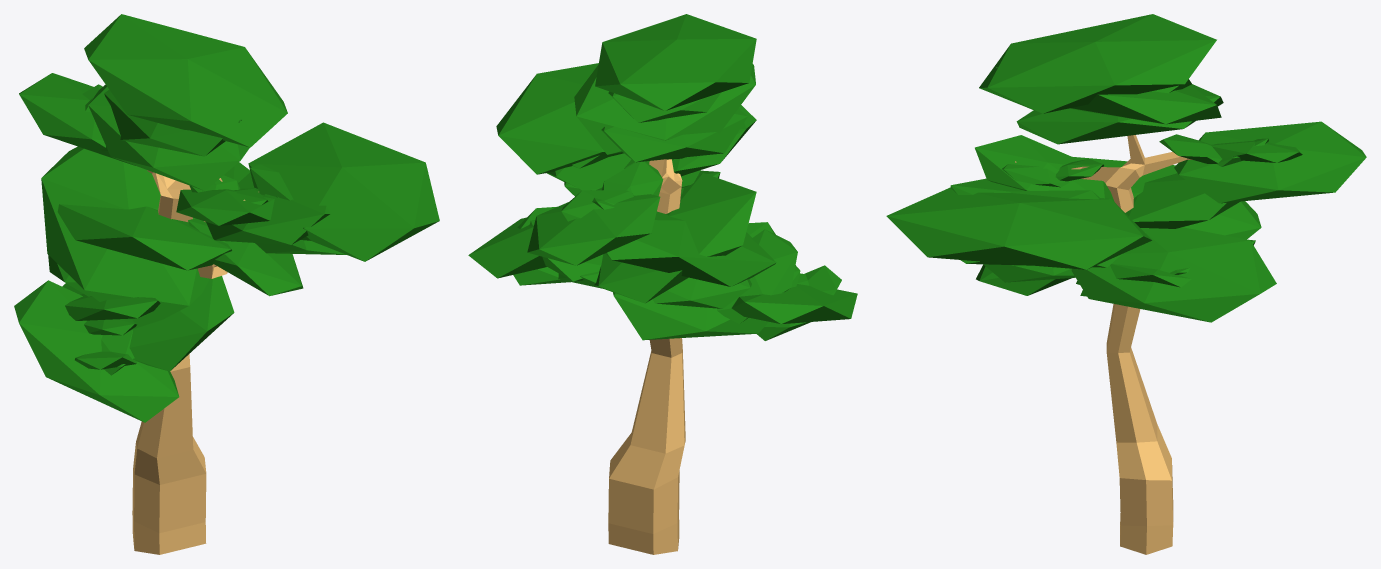
Rendered from Birch tree alt.fbx.
3 views of the same model, side by side, from view 1: azimuth 30°, elevation 25°; view 2: azimuth 150°, elevation 25°; view 3: azimuth 270°, elevation 25° (orthographic). The views are drawn at different scales.
Visible parts, largest first — view 1: Birch Tree 2|Leaf|Dupli|5, Birch Tree 2|Leaf|Dupli|44, Birch Tree 2|Leaf|Dupli|23, Birch Tree 2, Birch Tree 2|Leaf|Dupli|35, Birch Tree 2|Leaf|Dupli|10, Birch Tree 2|Leaf|Dupli|31, Birch Tree 2|Leaf|Dupli|4, Birch Tree 2|Leaf|Dupli|9, Birch Tree 2|Leaf|Dupli|21, Birch Tree 2|Leaf|Dupli|43, Birch Tree 2|Leaf|Dupli|2 (+7 smaller); view 2: Birch Tree 2, Birch Tree 2|Leaf|Dupli|5, Birch Tree 2|Leaf|Dupli|44, Birch Tree 2|Leaf|Dupli|10, Birch Tree 2|Leaf|Dupli|9, Birch Tree 2|Leaf|Dupli|23, Birch Tree 2|Leaf|Dupli|2, Birch Tree 2|Leaf|Dupli|31, Birch Tree 2|Leaf|Dupli|35, Birch Tree 2|Leaf|Dupli|4, Birch Tree 2|Leaf|Dupli|17, Birch Tree 2|Leaf|Dupli|30 (+9 smaller); view 3: Birch Tree 2|Leaf|Dupli|44, Birch Tree 2|Leaf|Dupli|5, Birch Tree 2, Birch Tree 2|Leaf|Dupli|17, Birch Tree 2|Leaf|Dupli|9, Birch Tree 2|Leaf|Dupli|4, Birch Tree 2|Leaf|Dupli|23, Birch Tree 2|Leaf|Dupli|29, Birch Tree 2|Leaf|Dupli|2, Birch Tree 2|Leaf|Dupli|10, Birch Tree 2|Leaf|Dupli|8, Birch Tree 2|Leaf|Dupli|21 (+6 smaller).
Part boxes in pixels (x1,y1,x2,y2): Birch Tree 2|Leaf|Dupli|5: [84, 14, 287, 147]; Birch Tree 2|Leaf|Dupli|44: [248, 122, 439, 261]; Birch Tree 2|Leaf|Dupli|23: [41, 146, 209, 328]; Birch Tree 2: [132, 170, 258, 554]; Birch Tree 2|Leaf|Dupli|35: [14, 280, 179, 422]; Birch Tree 2|Leaf|Dupli|10: [57, 204, 231, 270]; Birch Tree 2|Leaf|Dupli|31: [62, 276, 234, 371]; Birch Tree 2|Leaf|Dupli|4: [88, 84, 249, 190]; Birch Tree 2|Leaf|Dupli|9: [19, 73, 136, 166]; Birch Tree 2|Leaf|Dupli|21: [188, 218, 303, 296]; Birch Tree 2|Leaf|Dupli|43: [206, 192, 330, 244]; Birch Tree 2|Leaf|Dupli|2: [104, 89, 241, 156]; Birch Tree 2: [608, 159, 685, 554]; Birch Tree 2|Leaf|Dupli|5: [595, 14, 756, 110]; Birch Tree 2|Leaf|Dupli|44: [496, 63, 623, 174]; Birch Tree 2|Leaf|Dupli|10: [594, 173, 756, 303]; Birch Tree 2|Leaf|Dupli|9: [527, 187, 660, 265]; Birch Tree 2|Leaf|Dupli|23: [605, 211, 776, 286]; Birch Tree 2|Leaf|Dupli|2: [574, 64, 755, 154]; Birch Tree 2|Leaf|Dupli|31: [613, 222, 795, 340]; Birch Tree 2|Leaf|Dupli|35: [731, 284, 857, 324]; Birch Tree 2|Leaf|Dupli|4: [601, 108, 747, 162]; Birch Tree 2|Leaf|Dupli|17: [468, 217, 546, 278]; Birch Tree 2|Leaf|Dupli|30: [717, 229, 797, 323]; Birch Tree 2|Leaf|Dupli|44: [886, 187, 1152, 269]; Birch Tree 2|Leaf|Dupli|5: [979, 14, 1216, 113]; Birch Tree 2: [1015, 135, 1192, 554]; Birch Tree 2|Leaf|Dupli|17: [1071, 227, 1276, 322]; Birch Tree 2|Leaf|Dupli|9: [1174, 121, 1366, 203]; Birch Tree 2|Leaf|Dupli|4: [1016, 84, 1223, 144]; Birch Tree 2|Leaf|Dupli|23: [1125, 173, 1240, 228]; Birch Tree 2|Leaf|Dupli|29: [975, 135, 1114, 201]; Birch Tree 2|Leaf|Dupli|2: [996, 67, 1221, 124]; Birch Tree 2|Leaf|Dupli|10: [1072, 156, 1261, 239]; Birch Tree 2|Leaf|Dupli|8: [1211, 141, 1302, 162]; Birch Tree 2|Leaf|Dupli|21: [983, 264, 1075, 282].
Bounding box in the file's own units: 1053 × 1440 × 1273.
